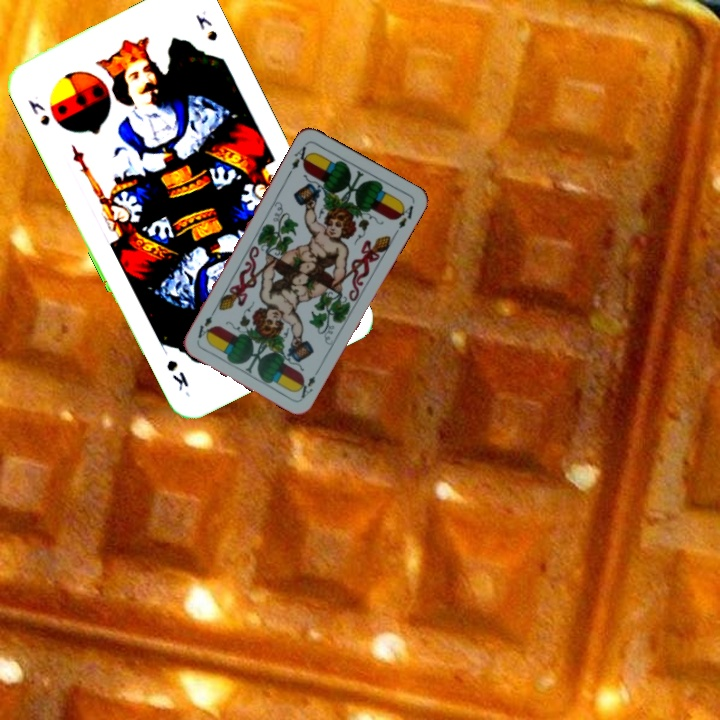EA: (284, 140, 313, 177), (295, 364, 322, 401)
SK: (23, 95, 53, 128)
